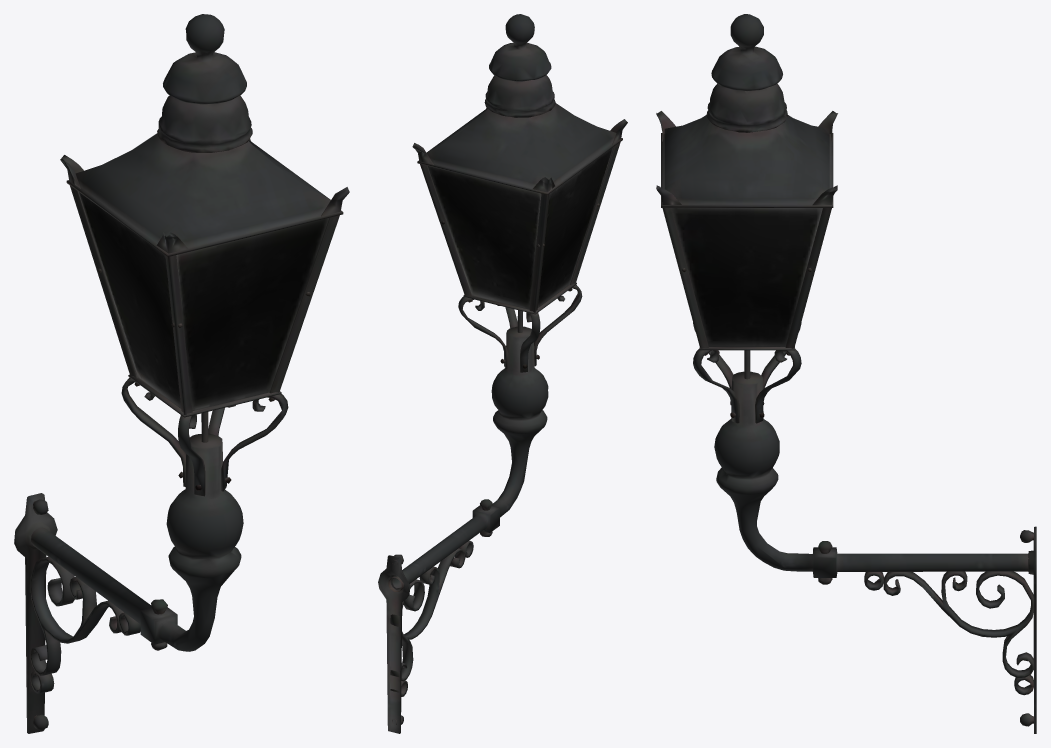
The model's file is streetLamp.glb.
3 views of the same model, side by side, from view 1: azimuth 30°, elevation 25°; view 2: azimuth 150°, elevation 25°; view 3: azimuth 270°, elevation 25° (orthographic). The views are drawn at different scales.
Visible parts, largest first — view 1: street_lamp_02; view 2: street_lamp_02; view 3: street_lamp_02.
Boxes of the visible parts, box(x1,y1,x2,y2) form: street_lamp_02: box(14, 14, 349, 733); street_lamp_02: box(378, 14, 627, 733); street_lamp_02: box(656, 14, 1036, 733).
Size of the model in its own units: 0.3849 by 1.67 by 0.8064.
Materials: 2 (2 with a texture image).
